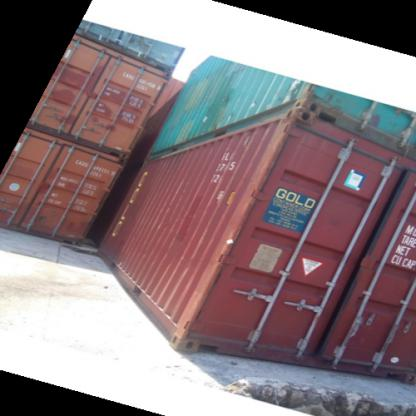Damage: (245, 108, 296, 182), (217, 176, 265, 254)
